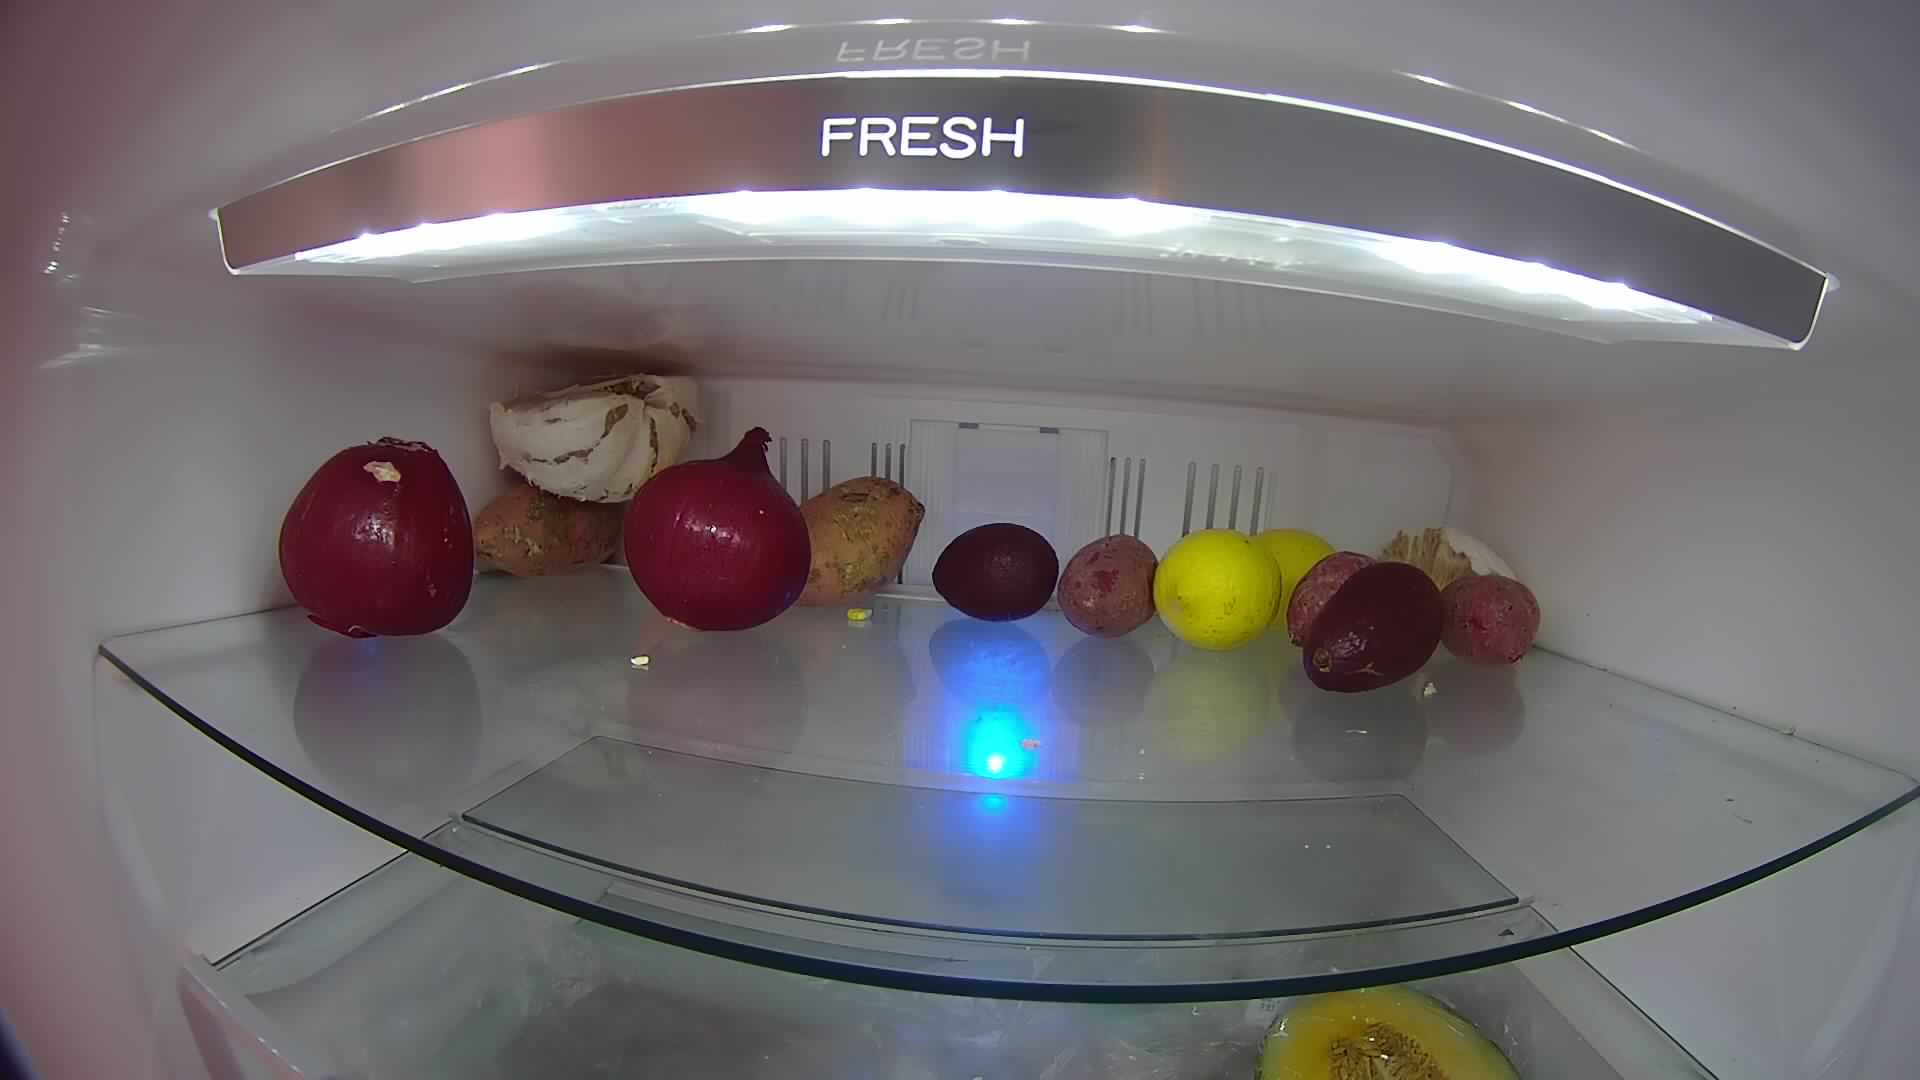avocado: (1283, 542, 1455, 705), (931, 522, 1056, 620)
lemon: (1156, 521, 1271, 651), (1250, 525, 1327, 609)
onion: (269, 429, 483, 634), (618, 411, 812, 636)
pomelo: (480, 392, 679, 495), (1370, 518, 1489, 605)
sweet-potato: (455, 472, 630, 582), (791, 467, 914, 604), (1055, 529, 1163, 638), (1439, 574, 1542, 663)
